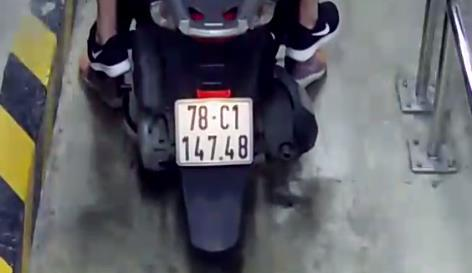lisence: (172, 99, 257, 165)
